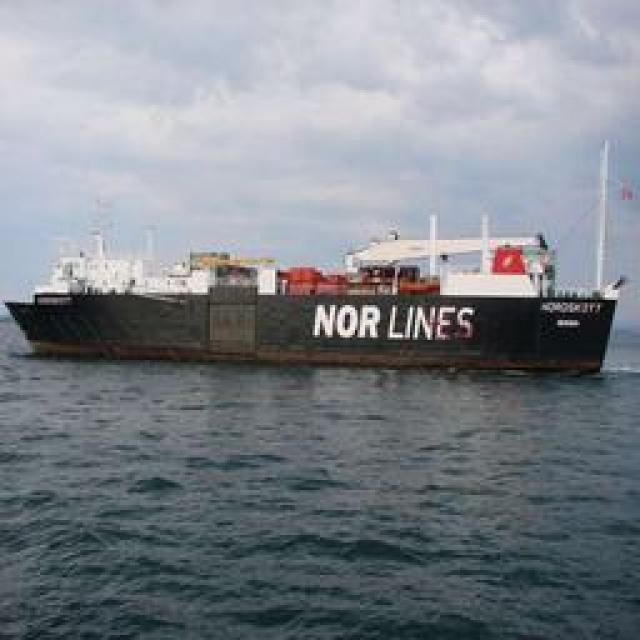CIV_Ship: (6, 224, 632, 366)
